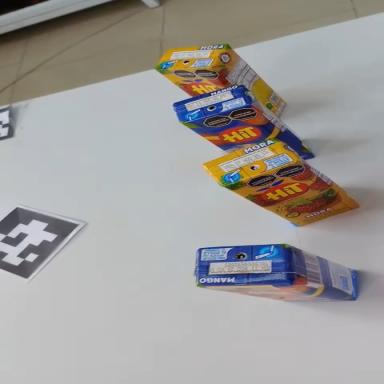HIT-MANGO: (167, 58, 318, 203), (191, 236, 361, 306)
HIT-MORA: (198, 113, 367, 249), (151, 20, 297, 135)
cara_F: (222, 146, 361, 245), (176, 89, 324, 175), (198, 283, 356, 303), (155, 65, 234, 99)
